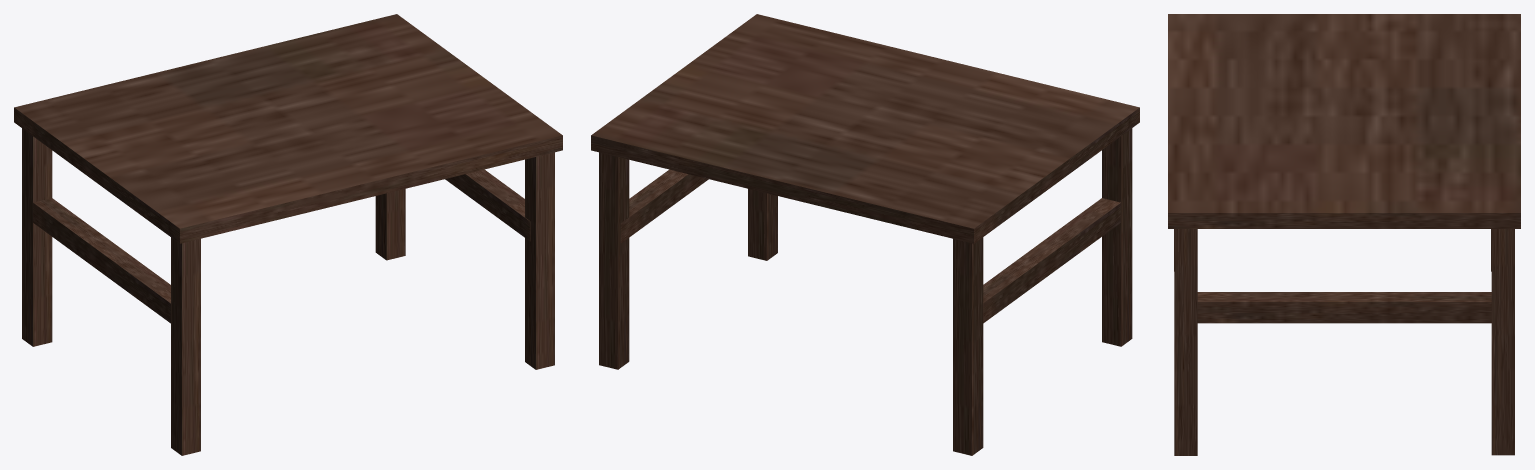
The model's file is Meja2_gelap.gltf.
3 renders of one model, left to right at view 1: azimuth 30°, elevation 25°; view 2: azimuth 150°, elevation 25°; view 3: azimuth 270°, elevation 25°, orthographic. The views are drawn at different scales.
Visible parts, largest first — view 1: Cube, Cube.003, Cube.001, Cube.004, Cube.006, Cube.005, Cube.002; view 2: Cube, Cube.004, Cube.002, Cube.003, Cube.006, Cube.005, Cube.001; view 3: Cube, Cube.005, Cube.001, Cube.002.
Boxes of the visible parts, left/top/right/bottom form: Cube: left=14, top=14, right=562, bottom=243; Cube.003: left=171, top=237, right=200, bottom=455; Cube.001: left=525, top=152, right=554, bottom=369; Cube.004: left=22, top=128, right=52, bottom=346; Cube.006: left=33, top=198, right=170, bottom=323; Cube.005: left=445, top=169, right=530, bottom=240; Cube.002: left=375, top=189, right=405, bottom=260; Cube: left=591, top=14, right=1139, bottom=243; Cube.004: left=953, top=237, right=983, bottom=455; Cube.002: left=599, top=152, right=629, bottom=369; Cube.003: left=1102, top=128, right=1132, bottom=346; Cube.006: left=983, top=198, right=1120, bottom=323; Cube.005: left=620, top=169, right=708, bottom=243; Cube.001: left=748, top=189, right=777, bottom=260; Cube: left=1168, top=14, right=1520, bottom=228; Cube.005: left=1197, top=292, right=1491, bottom=323; Cube.001: left=1174, top=229, right=1197, bottom=455; Cube.002: left=1491, top=229, right=1514, bottom=455.
Size of the model in its own units: 8 by 4.61 by 6.
7 materials, 7 textured.
